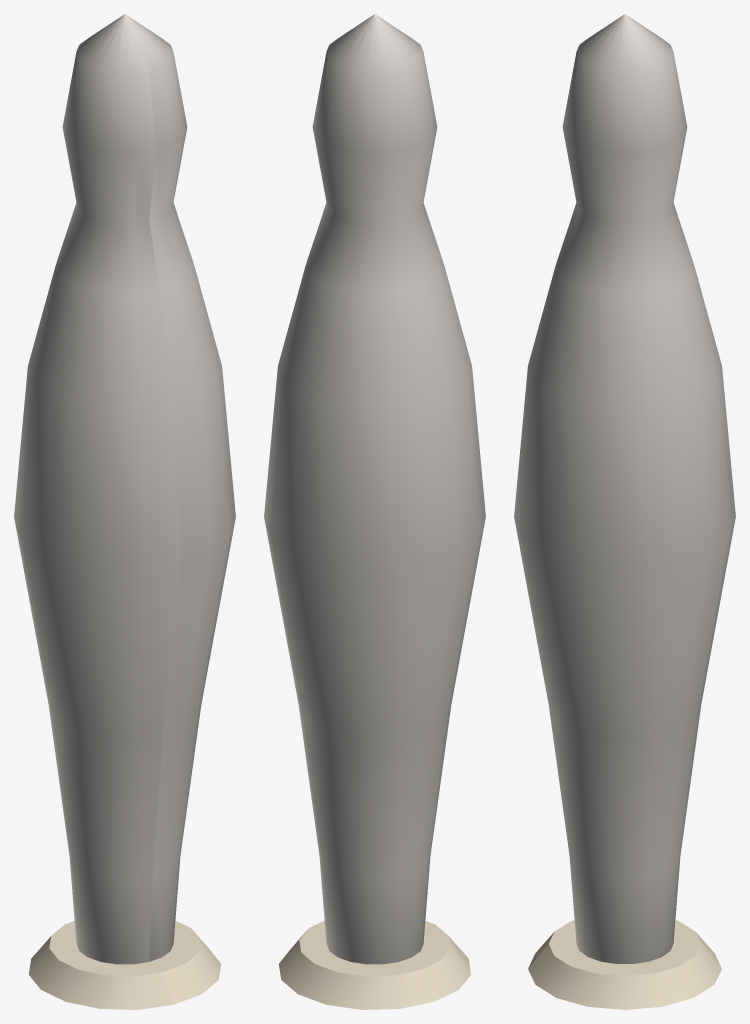
Rendered from mdl-mannequin.a721699c.glb.
The picture shows the model from 3 angles, left to right: view 1: azimuth 30°, elevation 25°; view 2: azimuth 150°, elevation 25°; view 3: azimuth 270°, elevation 25°; orthographic projection.
Visible parts, largest first — view 1: mannequin; view 2: mannequin; view 3: mannequin.
Part boxes in pixels (left/top/right/bottom): mannequin: left=14, top=14, right=235, bottom=1009; mannequin: left=264, top=14, right=485, bottom=1009; mannequin: left=514, top=14, right=735, bottom=1009.
Bounding box in the file's own units: 0.3151 × 1.52 × 0.32.
